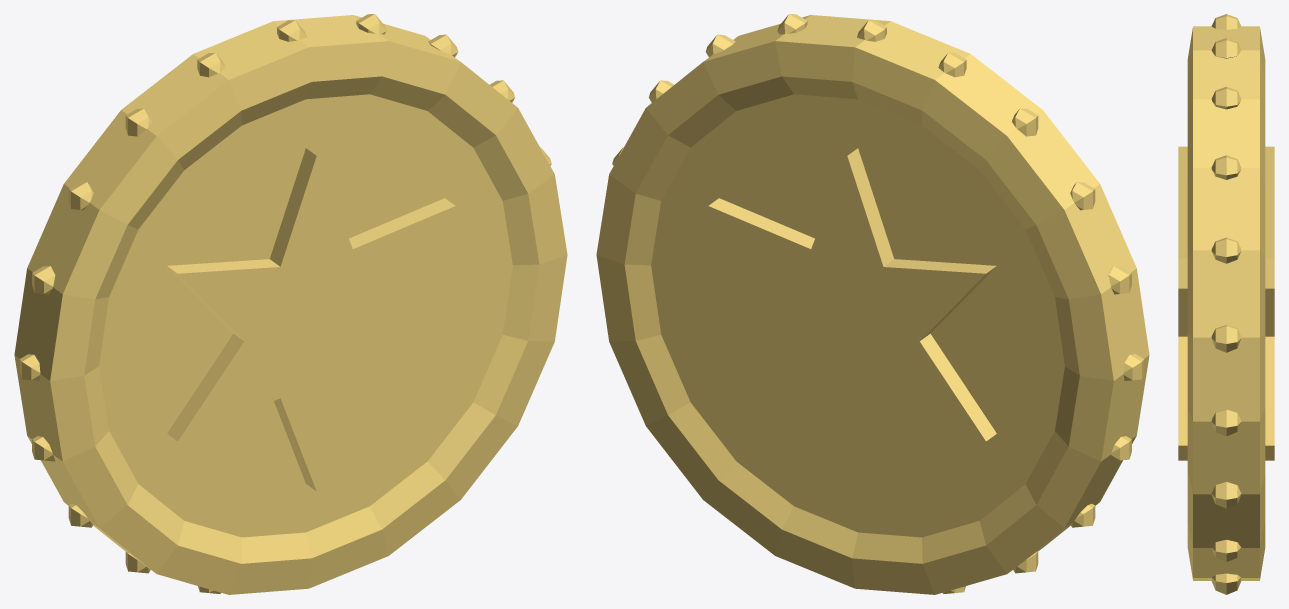
Rendered from coin.glb.
The picture shows the model from 3 angles, left to right: view 1: azimuth 30°, elevation 25°; view 2: azimuth 150°, elevation 25°; view 3: azimuth 270°, elevation 25°; orthographic projection. The views are drawn at different scales.
Visible parts, largest first — view 1: 000-spinning-coin/body/gold; view 2: 000-spinning-coin/body/gold; view 3: 000-spinning-coin/body/gold.
Part boxes in pixels (left/top/right/bottom): 000-spinning-coin/body/gold: left=14, top=14, right=567, bottom=594; 000-spinning-coin/body/gold: left=596, top=14, right=1149, bottom=594; 000-spinning-coin/body/gold: left=1178, top=14, right=1274, bottom=594.
Bounding box in the file's own units: 0.3763 × 0.3772 × 0.062.
